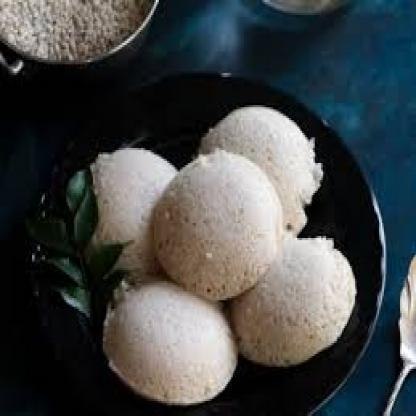idli: (153, 152, 283, 300), (104, 275, 237, 403), (231, 234, 356, 366), (198, 107, 322, 235), (81, 148, 179, 282)
